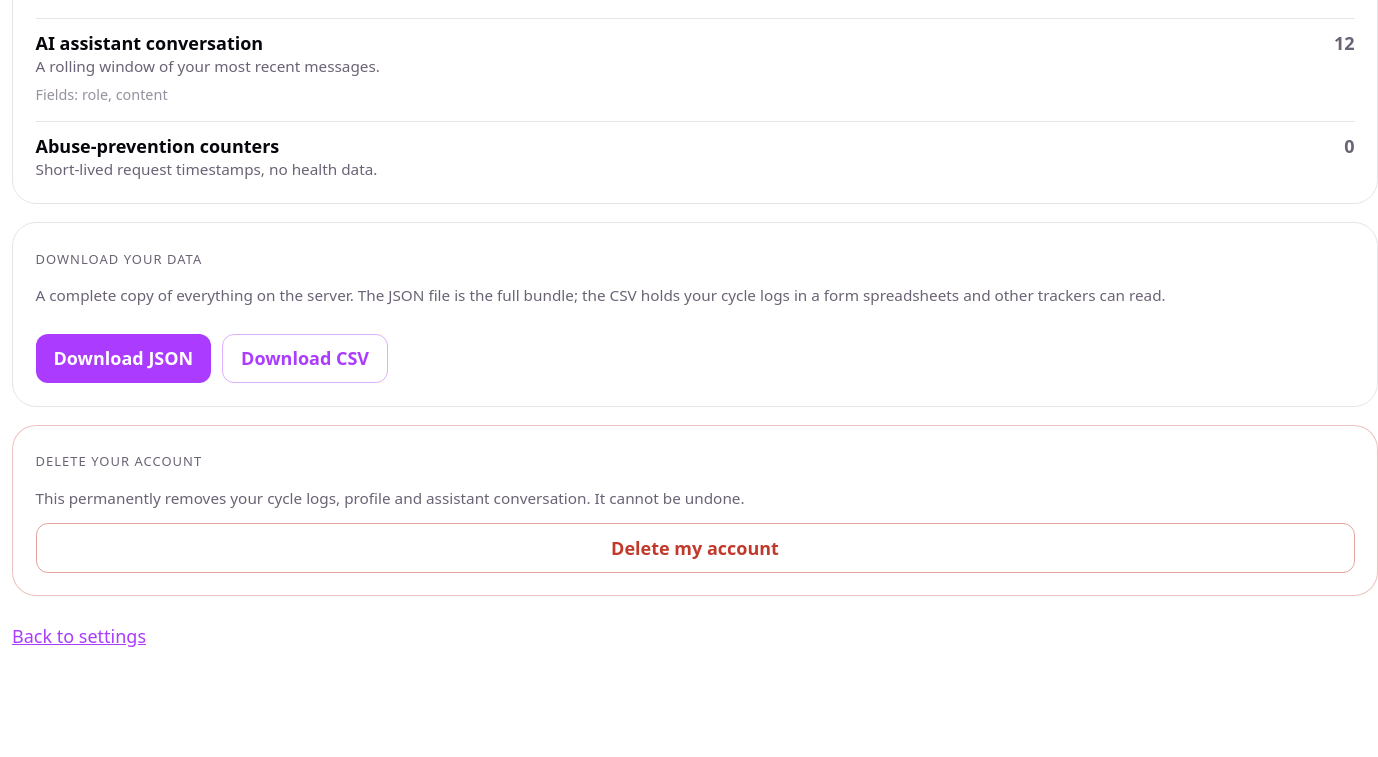
Test: deletion › does not delete anything on the first click
(page scrolled)
What coordinates should you click on to do the following:
click the button "Delete my account"
I would click on:
 (695, 548)
Its box is [36, 523, 1354, 572].
(page scrolled)
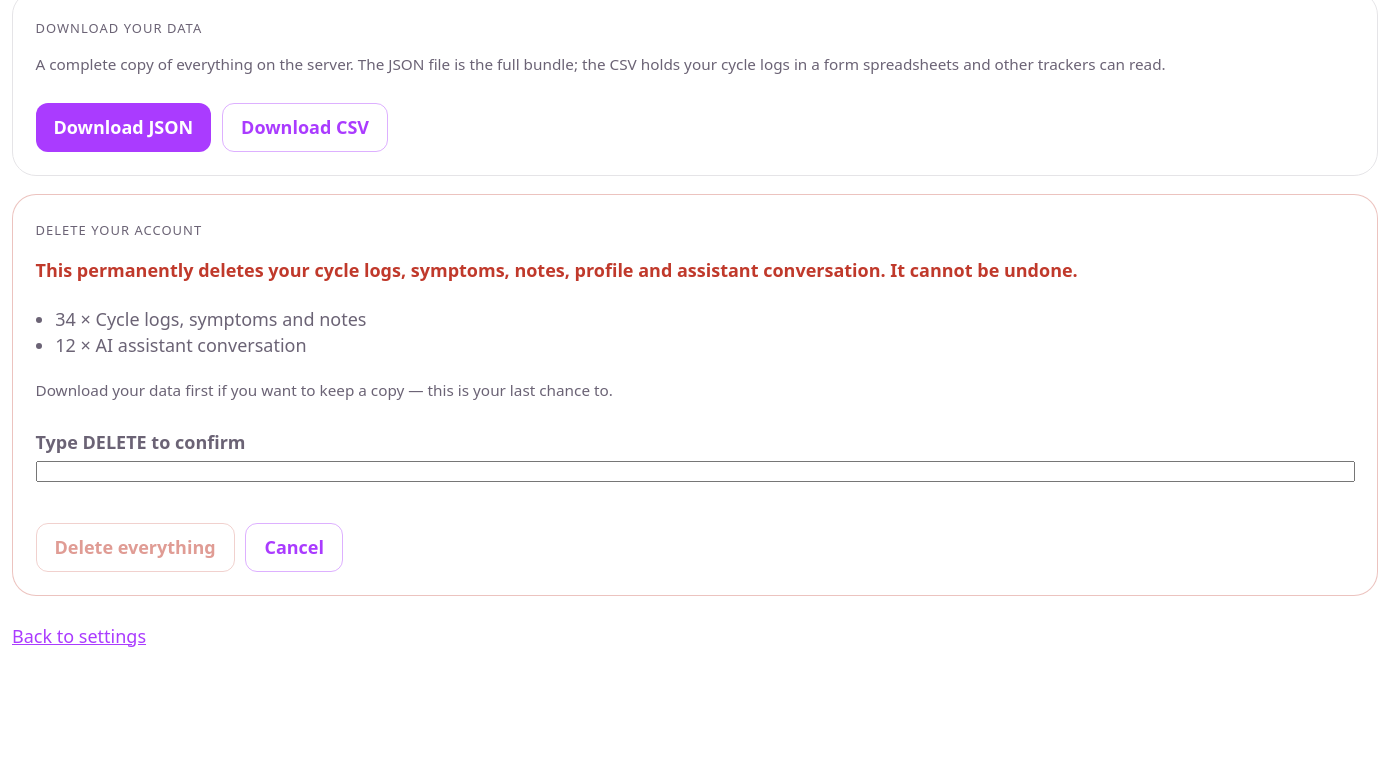
Result: the button "Delete everything" is shown at [36, 522, 235, 572]
